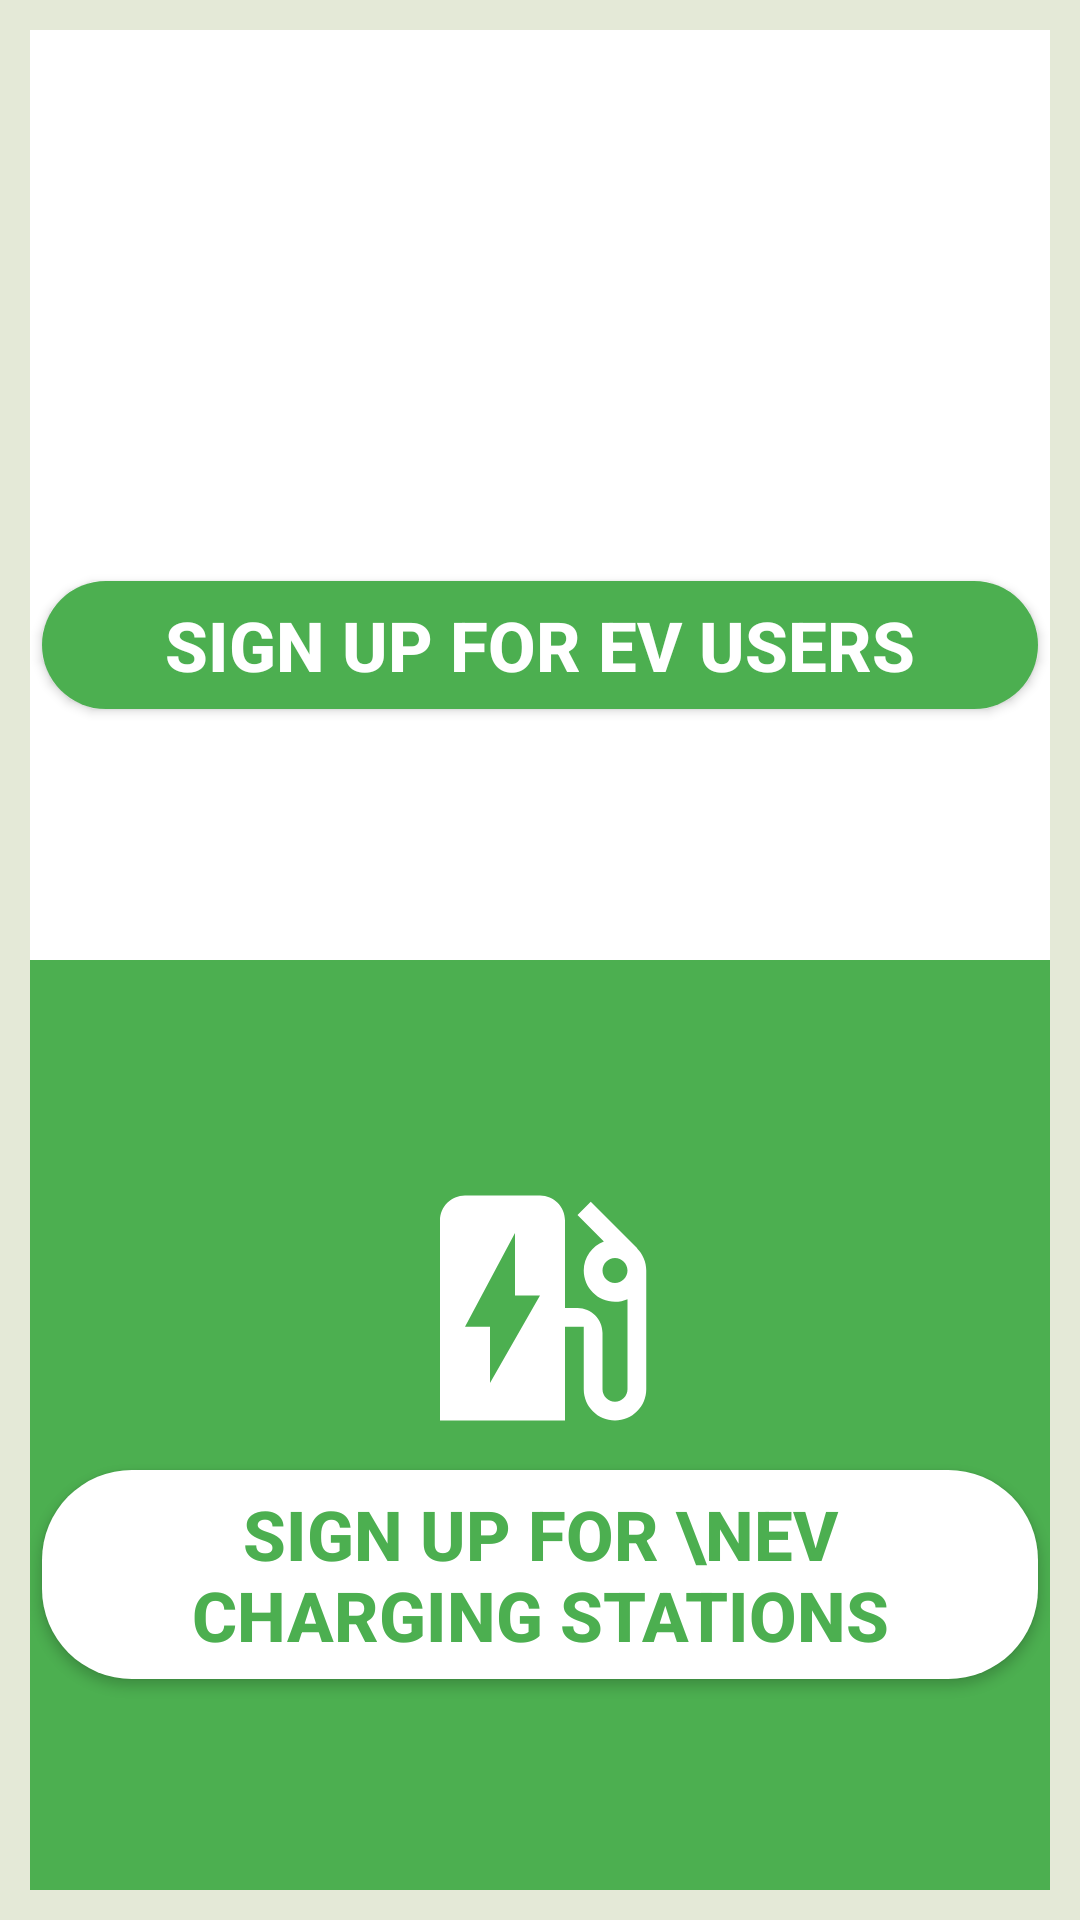

Where icons sit on this 1080x1920 app screen, as (x1, y1, x2, y2):
ev station: (440, 1195, 647, 1421)
